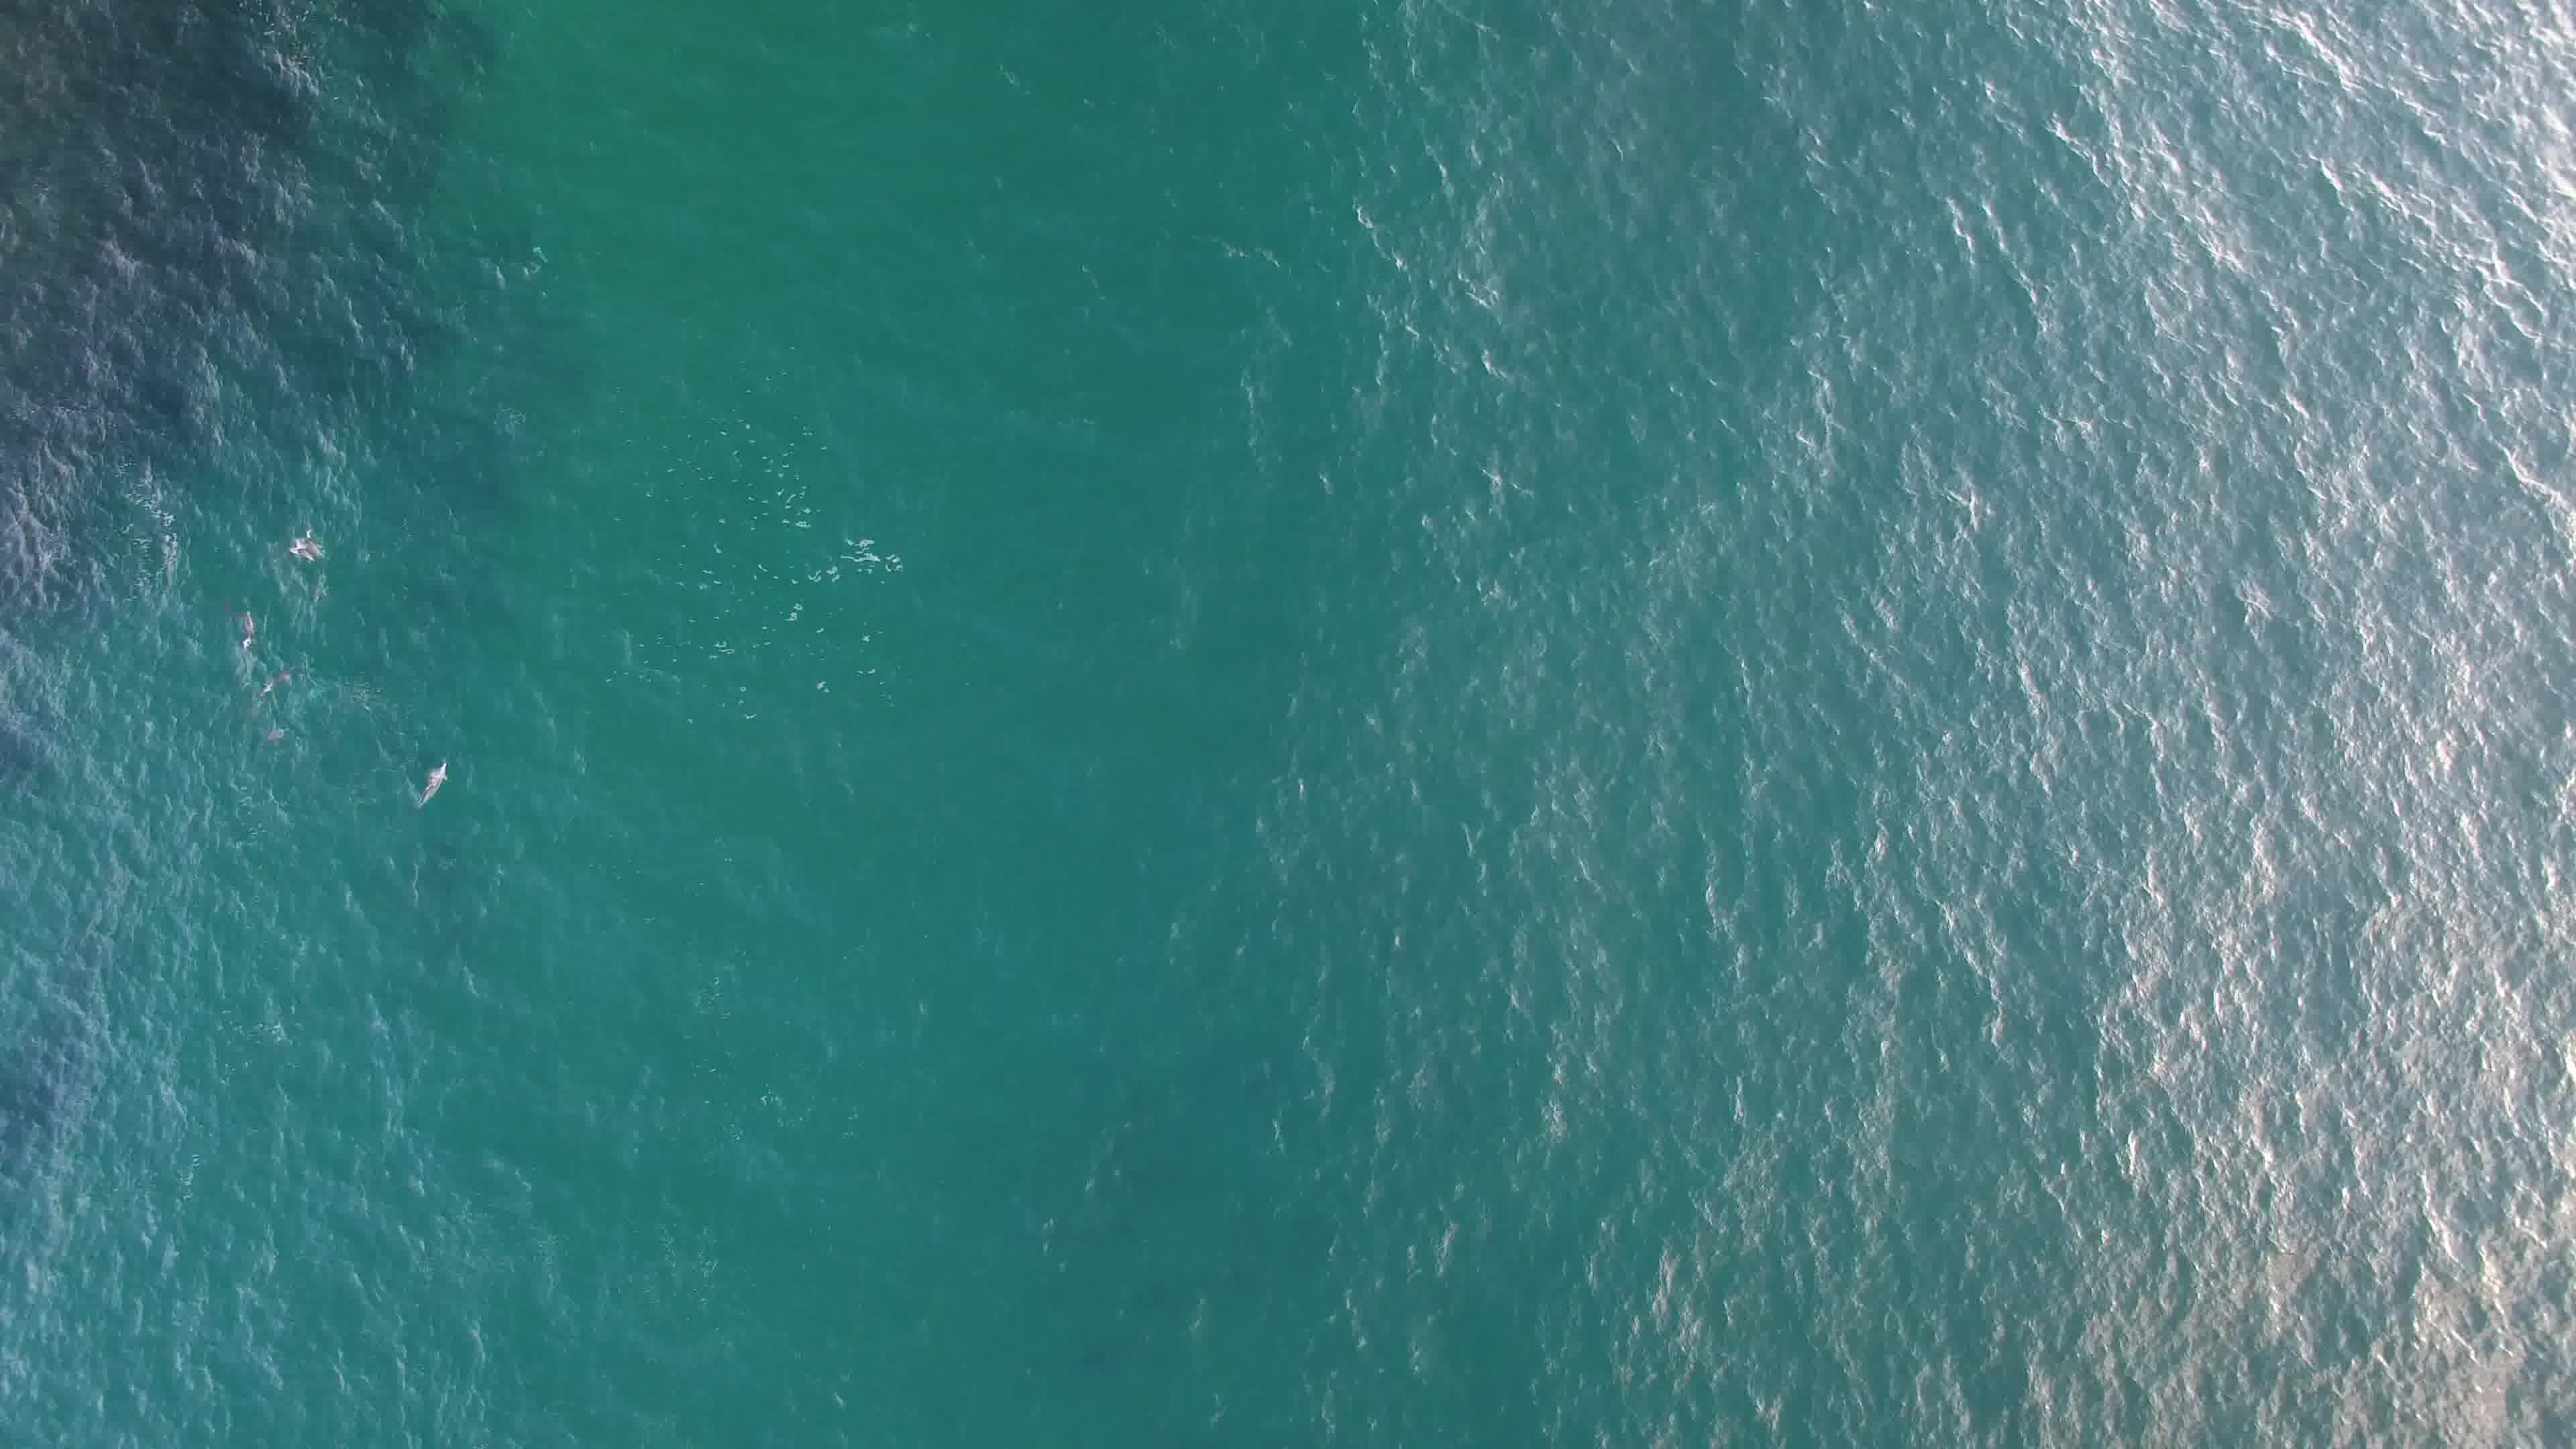dolphin: (389, 743, 465, 814)
